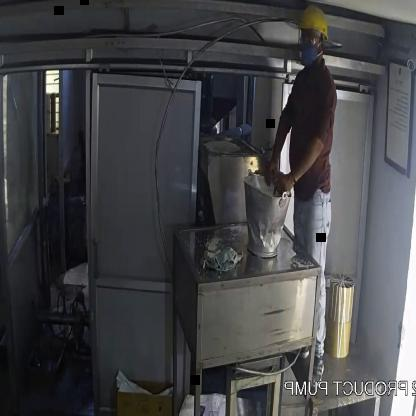helmet: (291, 5, 333, 46)
